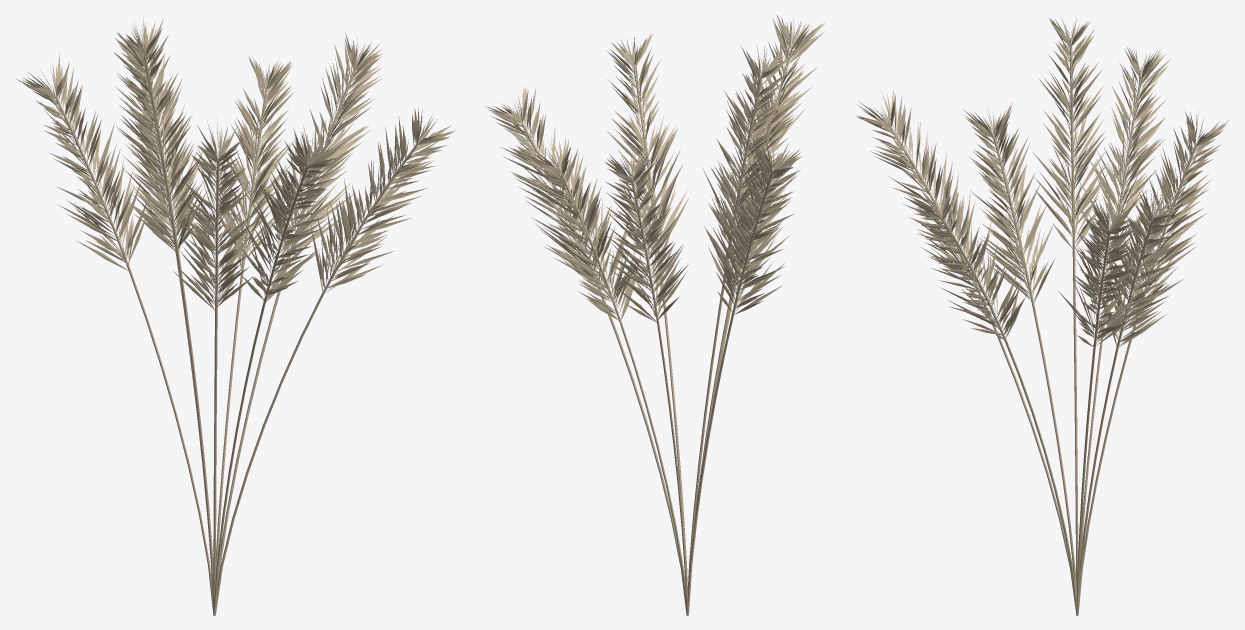
The model's file is pampas-1.glb.
3 renders of one model, left to right at view 1: azimuth 30°, elevation 25°; view 2: azimuth 150°, elevation 25°; view 3: azimuth 270°, elevation 25°, orthographic. The views are drawn at different scales.
Parts seen in each view (by area): view 1: pampas-leaves, pampas-stems; view 2: pampas-leaves, pampas-stems; view 3: pampas-leaves, pampas-stems.
Part boxes in pixels (box(x1,y1,x2,y2)): pampas-leaves: box(16, 15, 455, 310); pampas-stems: box(55, 54, 418, 615); pampas-leaves: box(486, 14, 825, 322); pampas-stems: box(521, 50, 791, 615); pampas-leaves: box(856, 17, 1229, 347); pampas-stems: box(890, 46, 1196, 615).
Bounding box in the file's own units: 0.4263 × 0.7266 × 0.4372.
